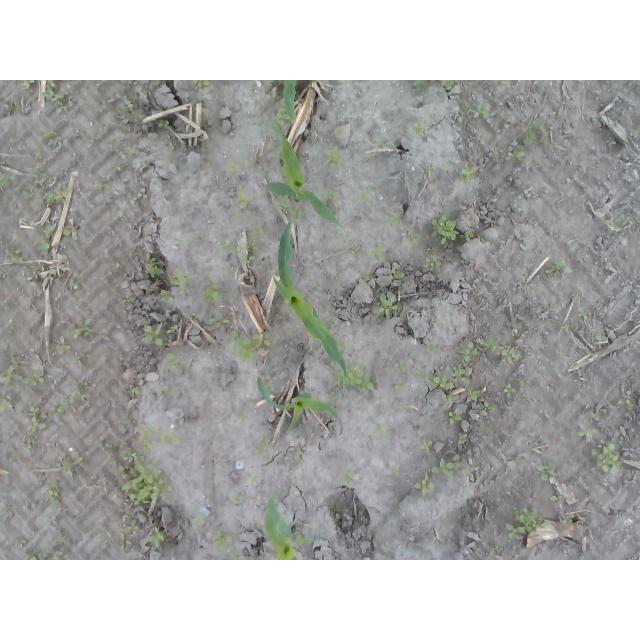Maize: (271, 219, 349, 389), (264, 116, 336, 224), (255, 374, 345, 434), (263, 489, 300, 560), (281, 80, 299, 122)
Weeds: (112, 447, 173, 506), (414, 364, 466, 403), (406, 212, 462, 248), (505, 505, 548, 544), (461, 337, 523, 364), (228, 328, 273, 364), (3, 353, 46, 387), (333, 362, 378, 394), (138, 424, 183, 452), (591, 440, 625, 474), (24, 404, 49, 448), (216, 239, 256, 265), (56, 451, 96, 476), (373, 286, 400, 320), (519, 118, 550, 146), (63, 378, 89, 411), (272, 195, 305, 221), (232, 191, 259, 222), (416, 249, 449, 274), (29, 184, 68, 205), (31, 222, 57, 252), (41, 81, 65, 112), (392, 359, 413, 394), (227, 152, 257, 174), (200, 280, 226, 305), (463, 99, 492, 121), (30, 150, 47, 186), (140, 322, 165, 346), (29, 546, 71, 560), (245, 222, 266, 250), (169, 270, 192, 295), (430, 457, 454, 480), (337, 235, 361, 258), (2, 239, 24, 264), (504, 379, 529, 401), (212, 528, 233, 553), (550, 256, 576, 276), (408, 119, 432, 140), (146, 254, 167, 278), (144, 527, 166, 549), (353, 181, 375, 203), (324, 147, 345, 170), (72, 319, 97, 338), (415, 476, 438, 496), (537, 463, 561, 482), (207, 313, 233, 330), (505, 144, 529, 162), (372, 129, 392, 150), (121, 513, 140, 535), (96, 434, 120, 451), (341, 468, 360, 489), (383, 208, 401, 230), (254, 436, 274, 455), (604, 215, 625, 233), (46, 481, 62, 504), (272, 105, 290, 125), (294, 529, 315, 546), (54, 335, 72, 354), (70, 347, 89, 365), (462, 162, 480, 181), (1, 392, 16, 414), (413, 81, 435, 96), (367, 242, 385, 260), (162, 350, 178, 370), (387, 270, 405, 287), (238, 411, 258, 426), (118, 105, 135, 122), (191, 80, 209, 96), (32, 264, 48, 282), (47, 510, 65, 526), (448, 407, 464, 425), (190, 512, 207, 528), (118, 295, 142, 306), (418, 438, 434, 454), (50, 531, 71, 543), (147, 119, 169, 130), (49, 401, 64, 417), (160, 289, 176, 304), (576, 304, 591, 320), (291, 448, 305, 465), (424, 339, 441, 353), (159, 386, 177, 399), (373, 421, 386, 439), (575, 426, 594, 438), (460, 463, 475, 478), (327, 391, 347, 402), (455, 433, 469, 448), (500, 109, 513, 125), (120, 536, 132, 553), (558, 514, 575, 526), (391, 463, 402, 481), (1, 175, 16, 188), (112, 259, 125, 274), (468, 387, 481, 402), (440, 80, 455, 93), (479, 403, 498, 413), (550, 495, 567, 506), (127, 386, 141, 399), (68, 278, 83, 290), (561, 320, 576, 332), (320, 191, 336, 202), (136, 159, 153, 169), (441, 159, 453, 173), (227, 495, 242, 506), (626, 213, 638, 226), (16, 536, 28, 549), (464, 229, 477, 241), (7, 103, 21, 114), (225, 552, 244, 560), (46, 130, 58, 142), (112, 165, 128, 174), (126, 549, 139, 560), (96, 182, 113, 190), (134, 247, 147, 257), (423, 163, 433, 175), (22, 80, 35, 89), (429, 184, 442, 193), (231, 119, 241, 130), (167, 325, 178, 335), (623, 399, 633, 410), (571, 288, 577, 305), (365, 271, 375, 281), (596, 335, 609, 342), (63, 228, 73, 237), (272, 96, 279, 104)
